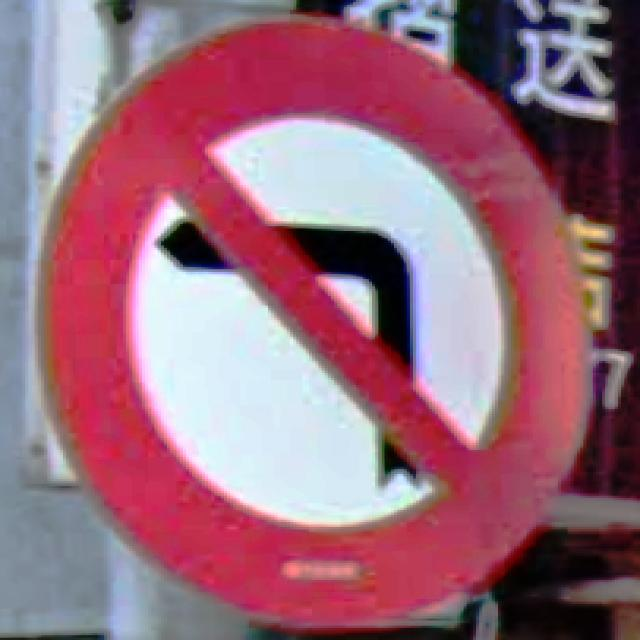noturnleft: (31, 9, 596, 630)
